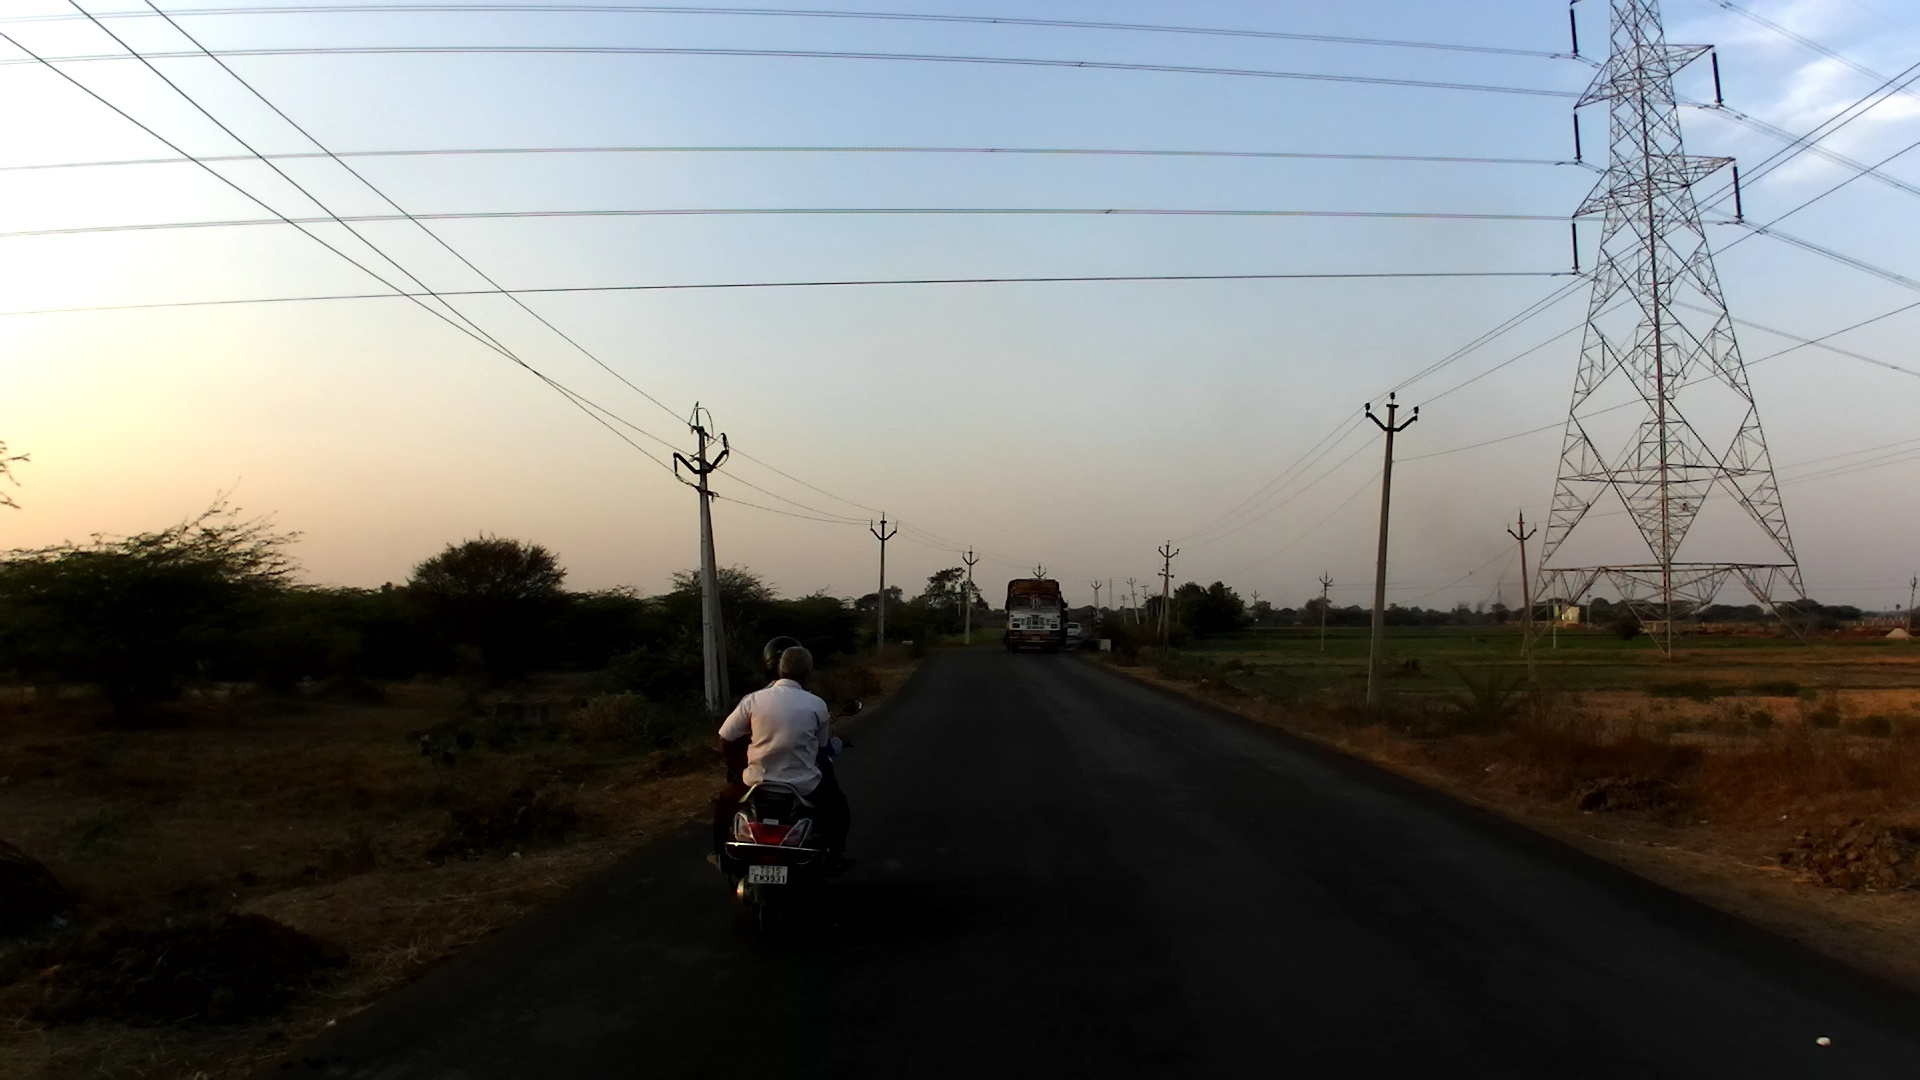car: (1064, 623, 1086, 642)
motorcycle: (715, 692, 874, 944)
rider: (706, 643, 856, 871), (746, 634, 853, 769)
truck: (1002, 577, 1069, 653)
